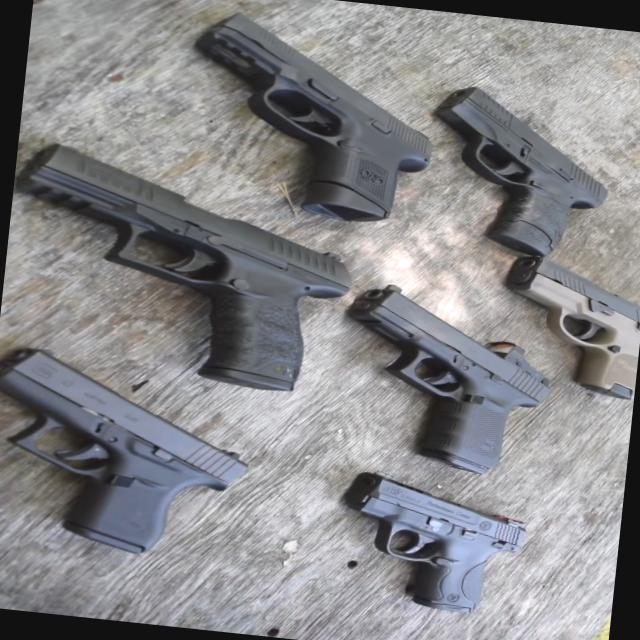handgun: (0, 128, 371, 408), (0, 332, 289, 589), (188, 13, 458, 240), (373, 60, 630, 272), (333, 273, 561, 495), (318, 464, 552, 639), (483, 240, 639, 410)
